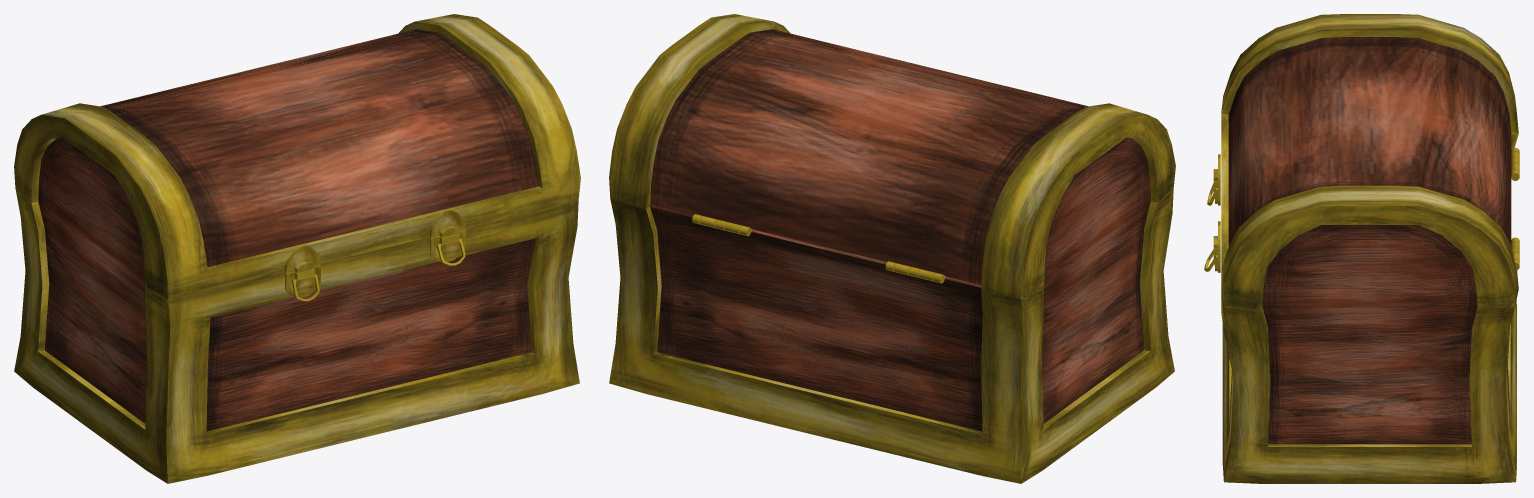
The model's file is Treasurechest.fbx.
3 views of the same model, side by side, from view 1: azimuth 30°, elevation 25°; view 2: azimuth 150°, elevation 25°; view 3: azimuth 270°, elevation 25° (orthographic). The views are drawn at different scales.
Parts seen in each view (by area): view 1: polySurface14, polySurface17; view 2: polySurface14, polySurface17; view 3: polySurface17, polySurface14.
Part boxes in pixels (x1,y1,x2,y2): polySurface14: (14, 188, 579, 483); polySurface17: (14, 14, 580, 299); polySurface14: (609, 188, 1174, 483); polySurface17: (609, 14, 1175, 299); polySurface17: (1213, 14, 1519, 308); polySurface14: (1204, 132, 1519, 483).
Bounding box in the file's own units: 1.62 × 1.1 × 1.12.
